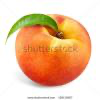Peach leaf: (4, 12, 60, 45)
